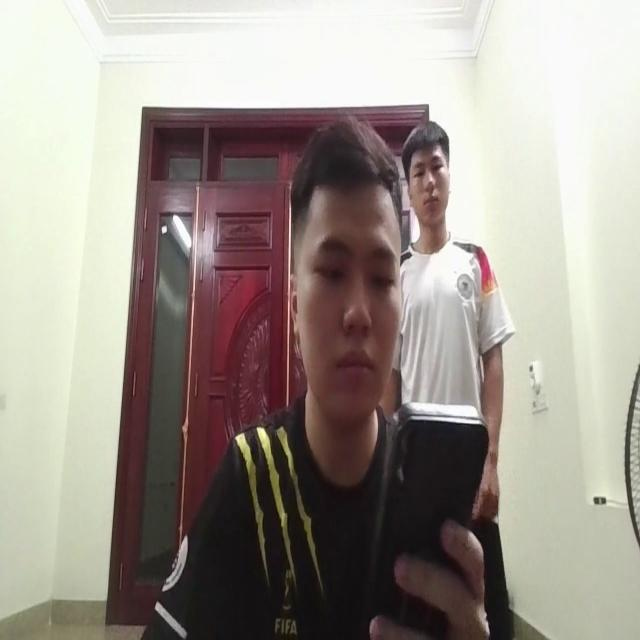extra_person: (398, 100, 505, 406)
phone: (381, 399, 488, 639)
student: (181, 121, 402, 640)
